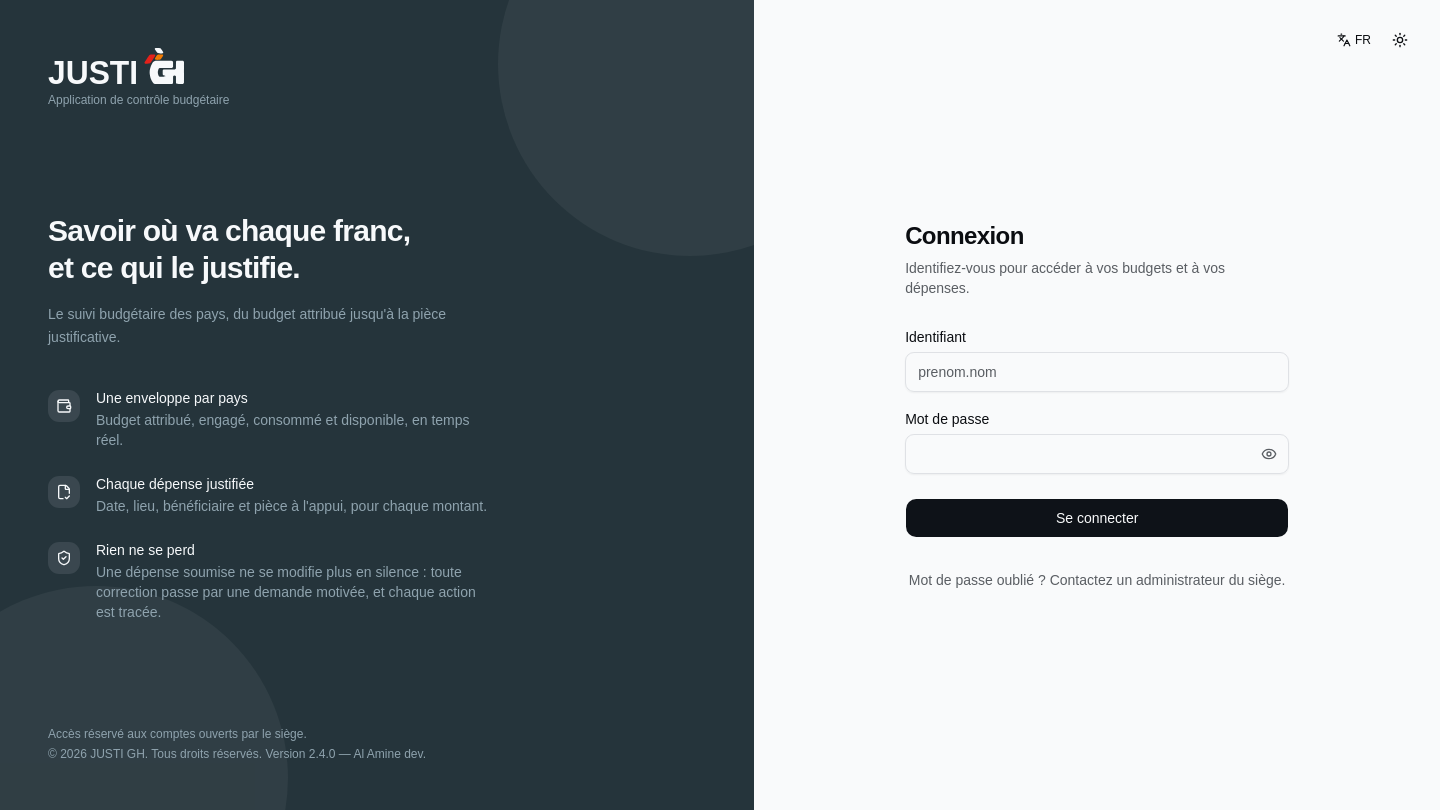
Test: connexion avec double authentification › exige un code une fois qu'il est demandé, sans appeler le serveur
Type "togo.innov" into the field labelled "Identifiant" at (1097, 372), box x1=905 y1=352 x2=1289 y2=392
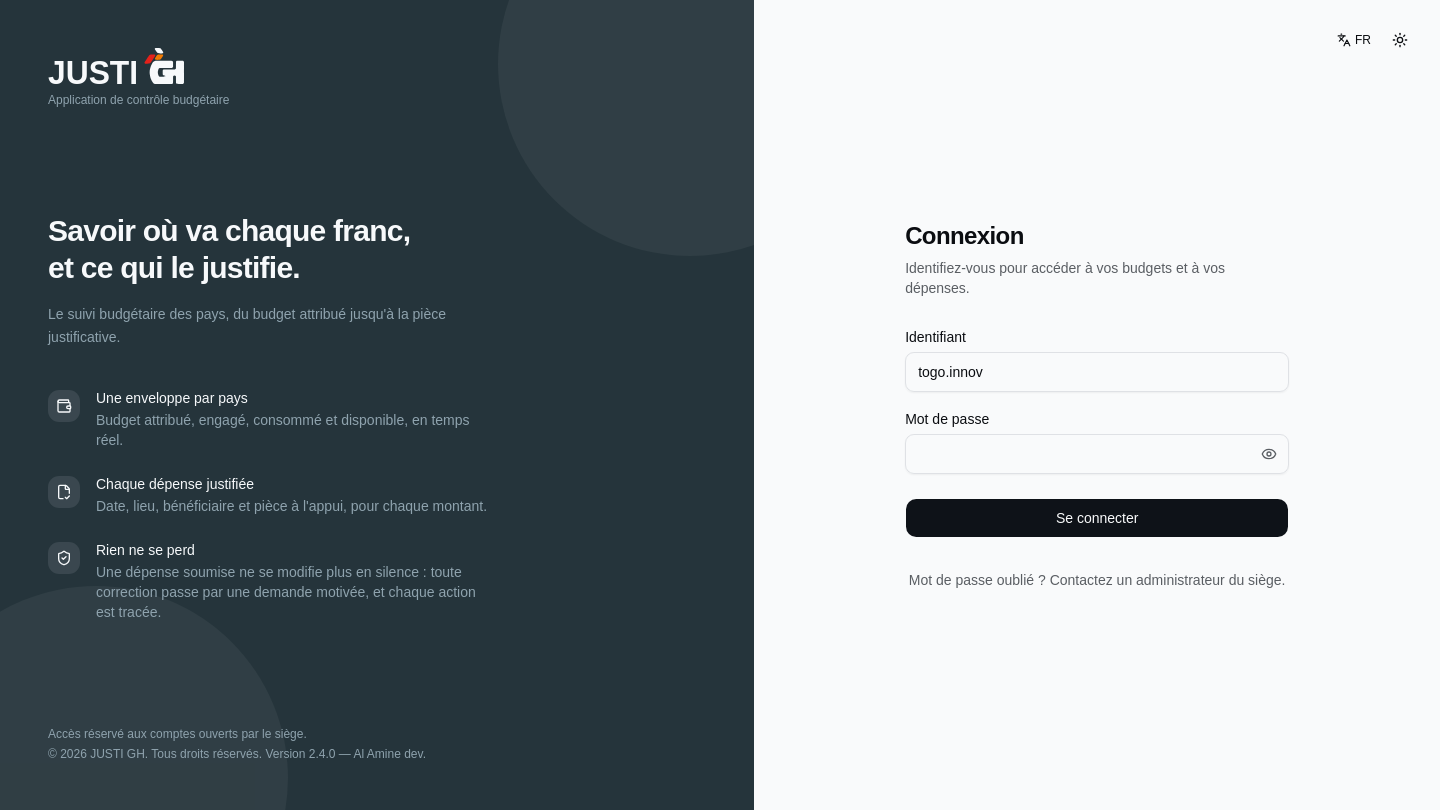
Type "secret" into the password field labelled "Mot de passe" at (1097, 454), box x1=905 y1=434 x2=1289 y2=474
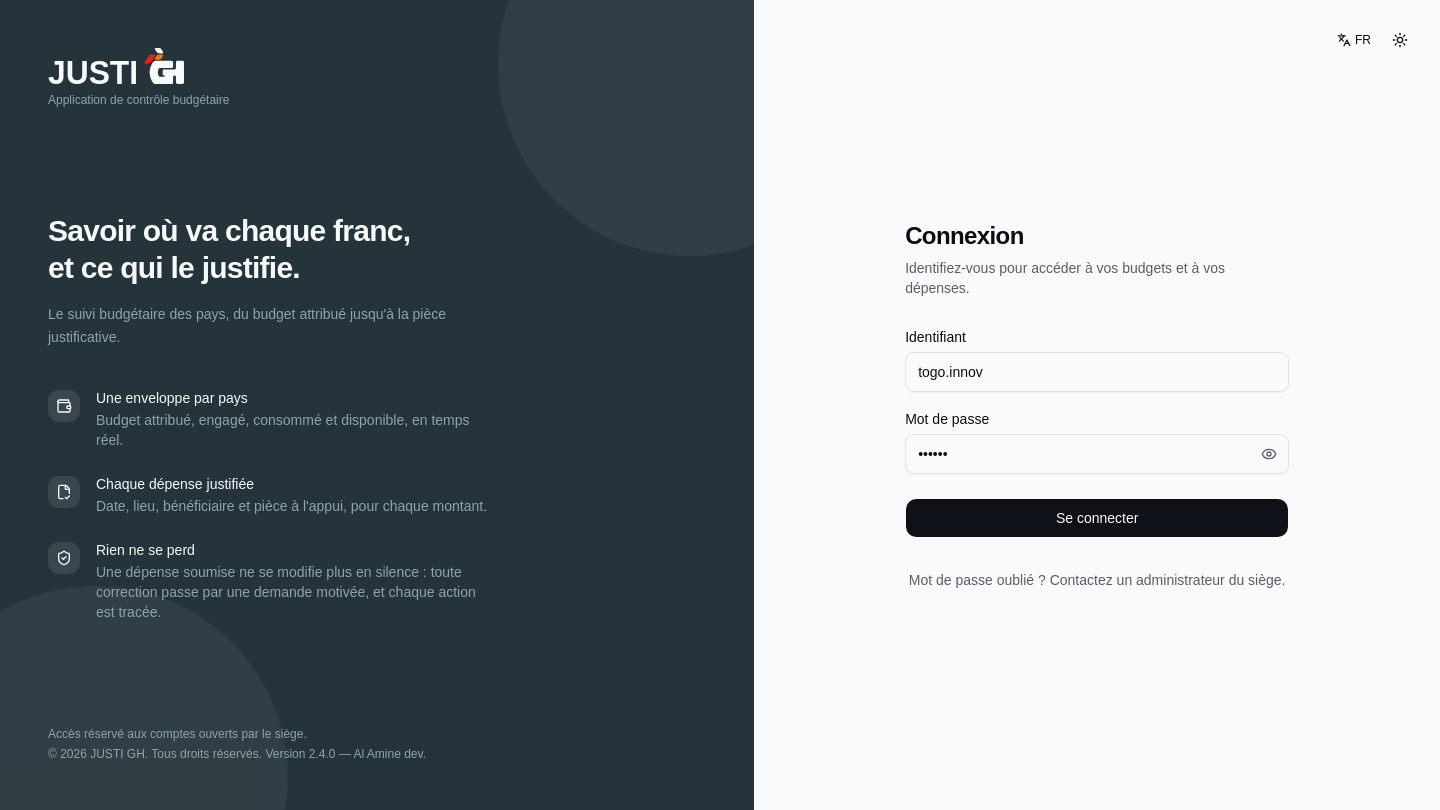
Click the button "Se connecter" at (1097, 518), box x1=905 y1=498 x2=1289 y2=538
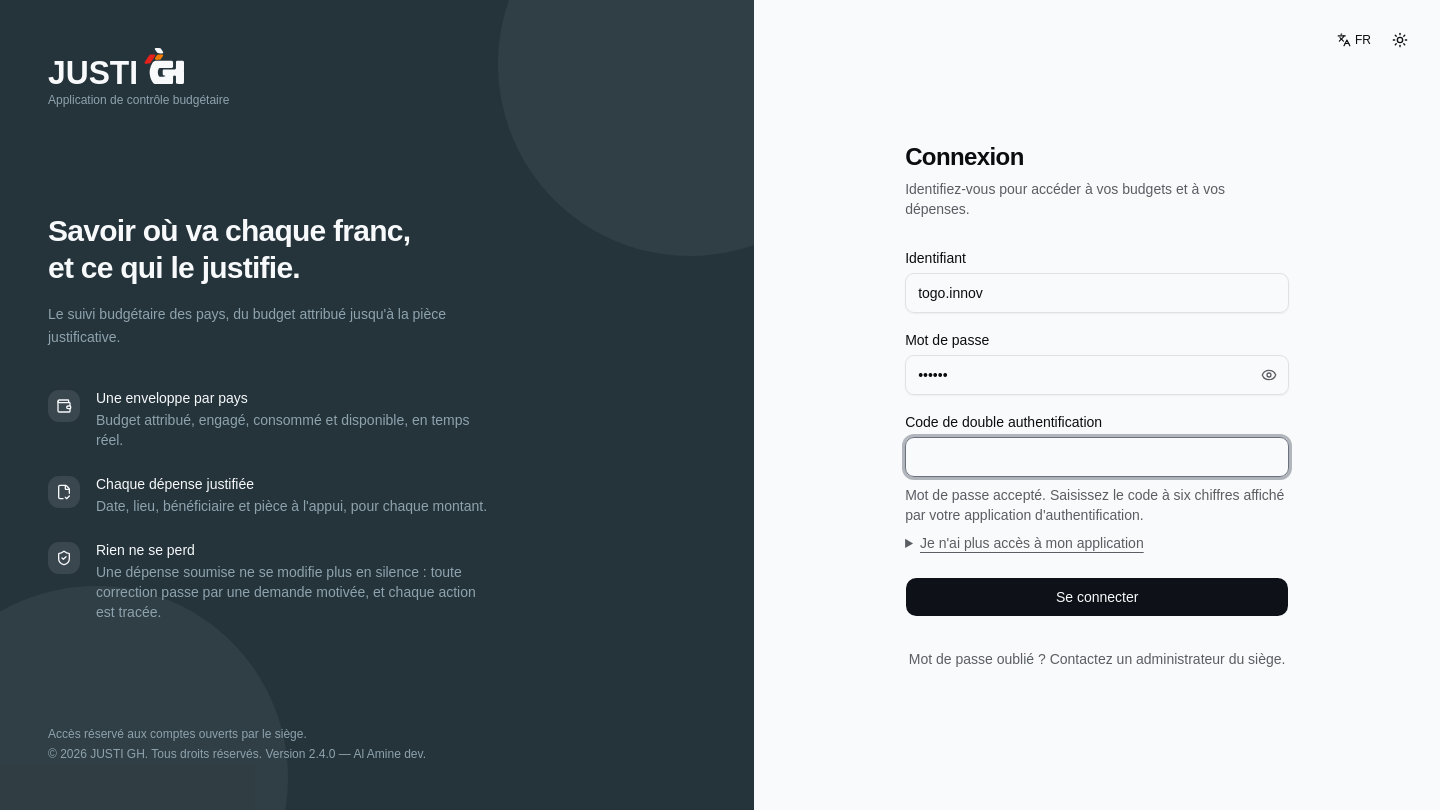
Expected: the field labelled "Code de double authentification" is shown, x1=905 y1=437 x2=1289 y2=477
Click the button "Se connecter" at (1097, 597), box x1=905 y1=577 x2=1289 y2=617
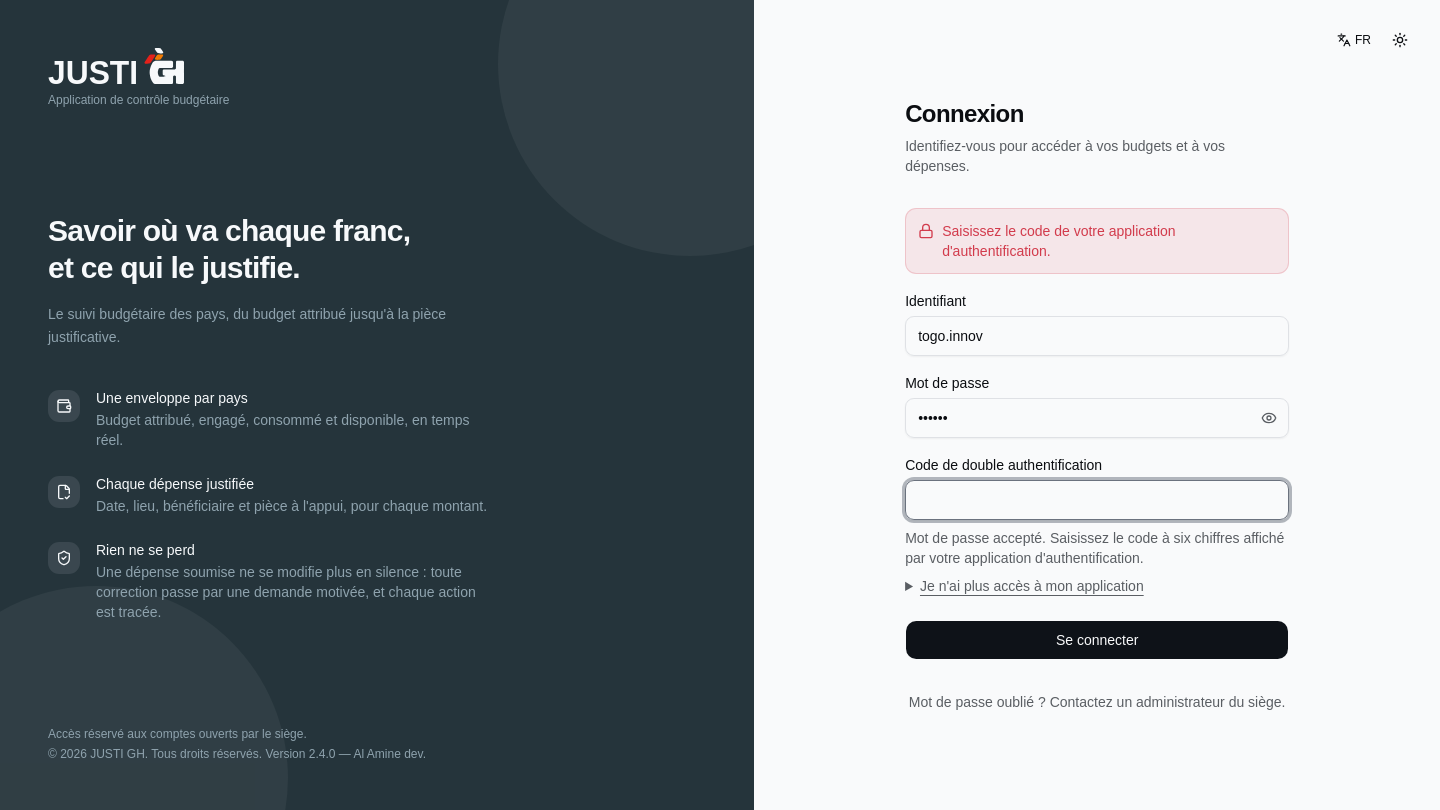
Expected: the message shows "code", x1=942 y1=223 x2=1176 y2=259
